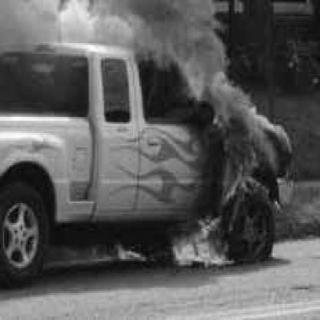Fire: (112, 227, 150, 267)
Smoke: (6, 4, 220, 50), (194, 47, 257, 129)
